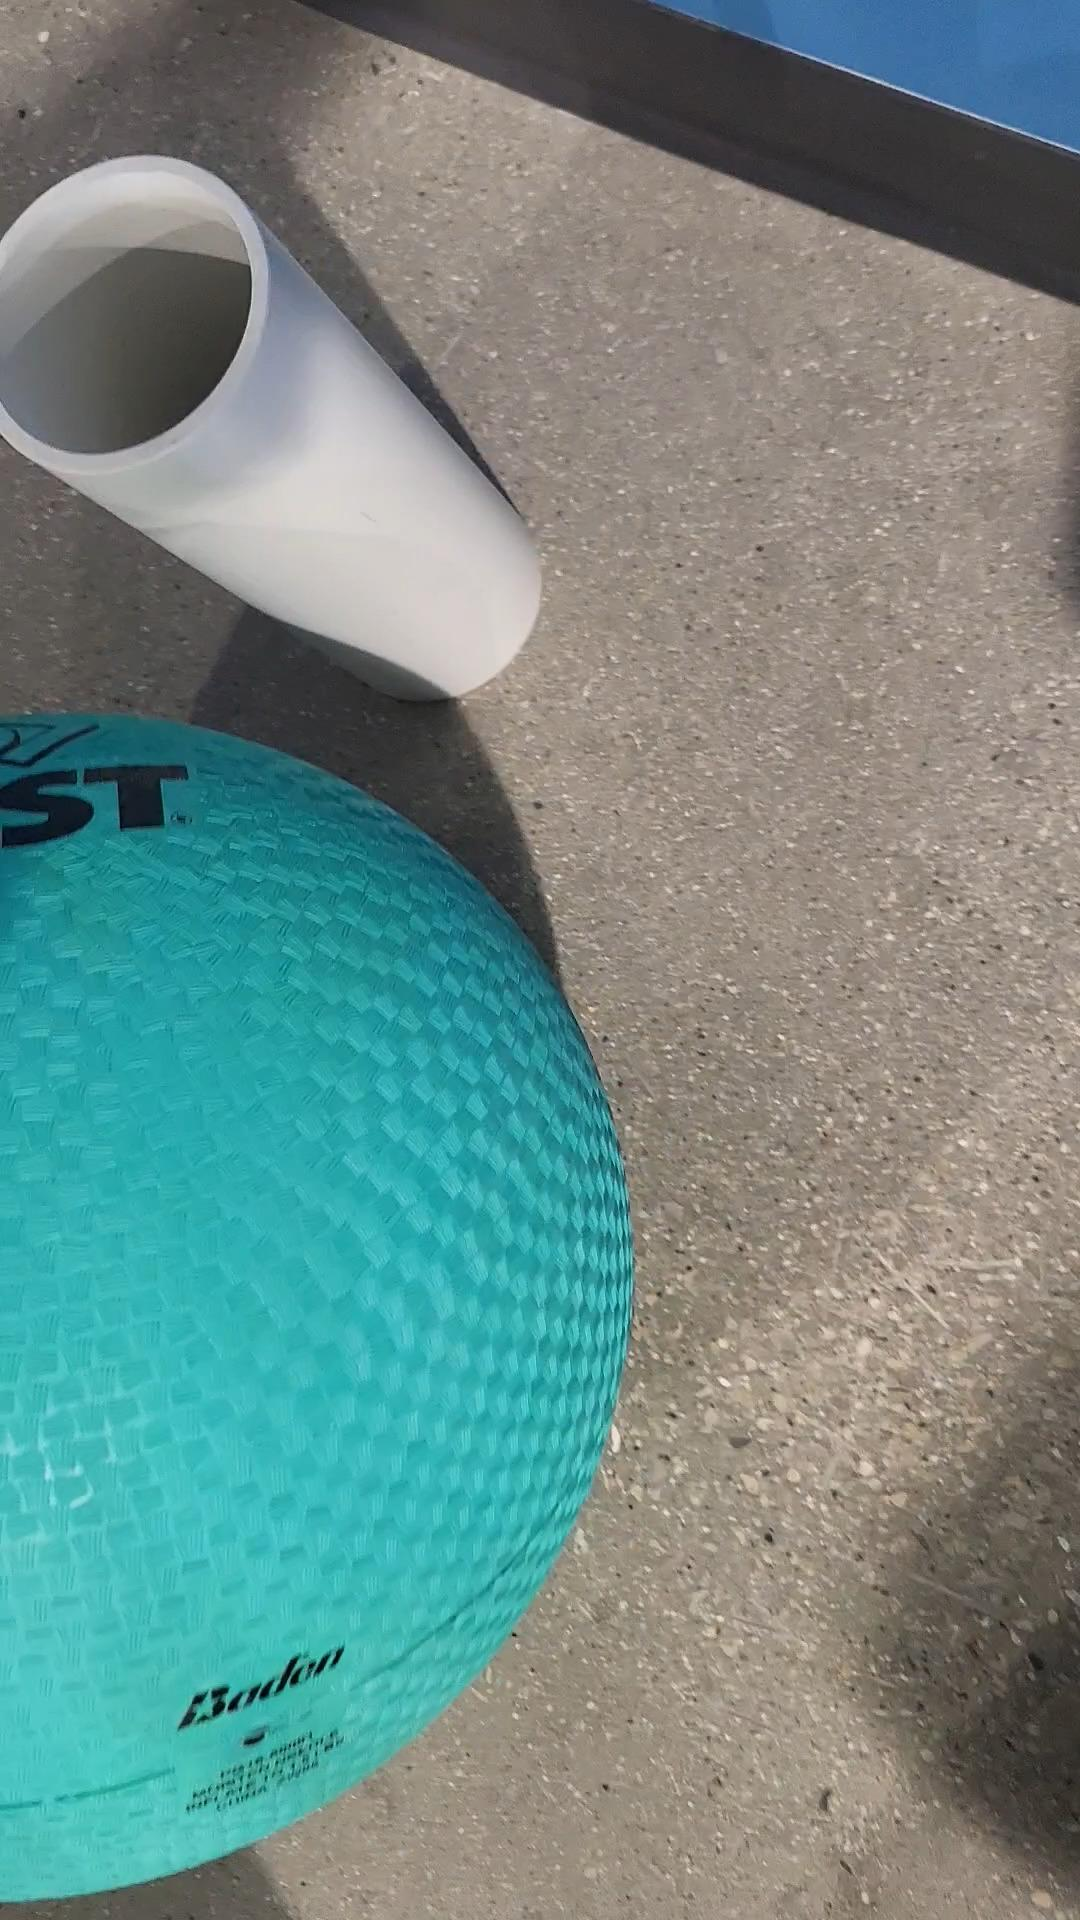algae: (0, 687, 644, 1896)
coral: (0, 131, 550, 680)
